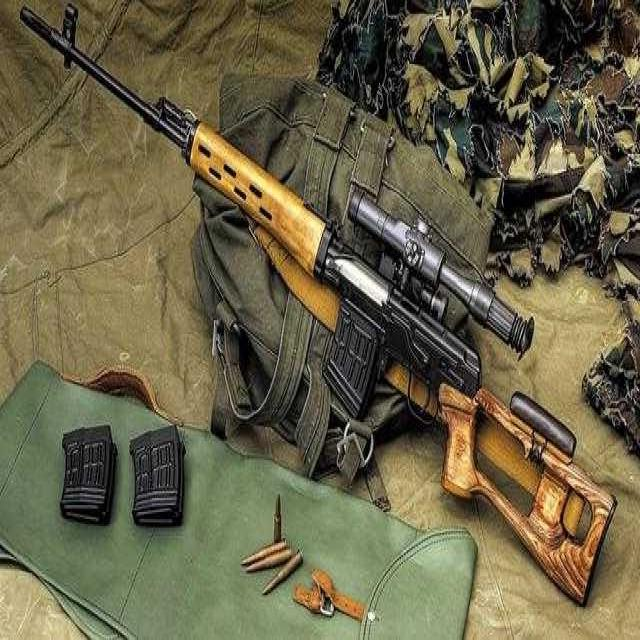heavyweapon: (16, 1, 624, 610)
